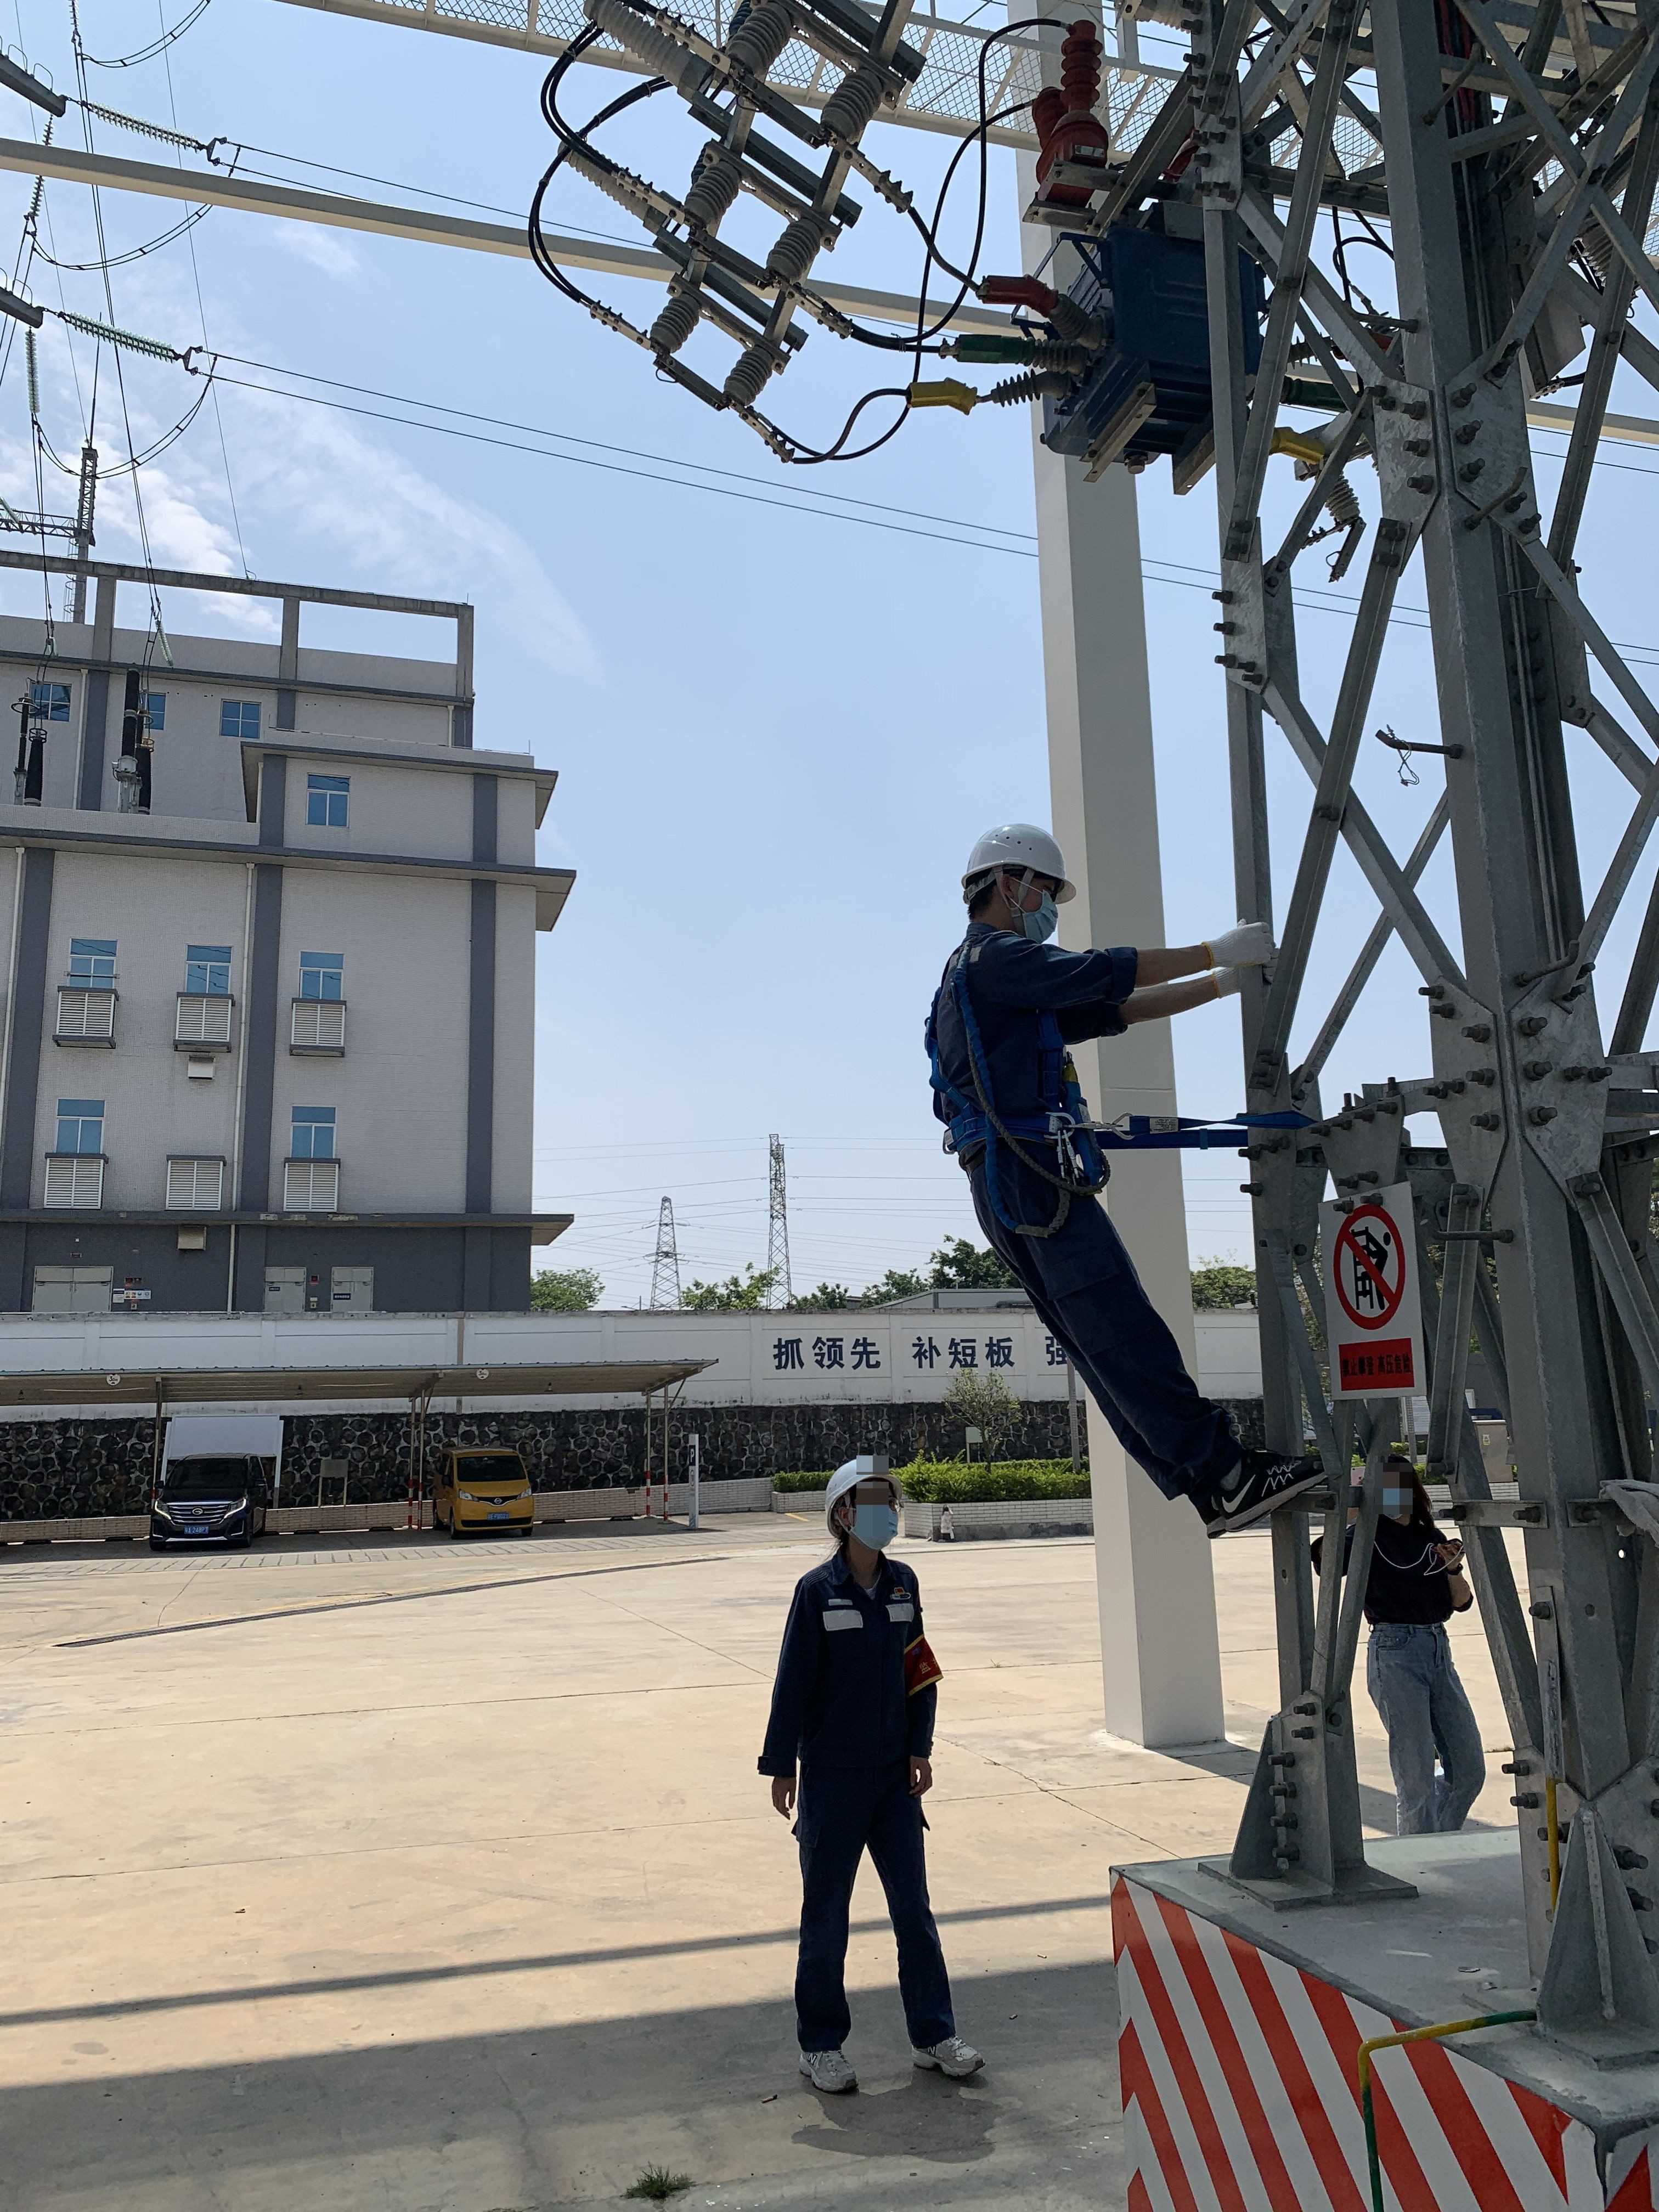downcloth: (1364, 1627, 1486, 1811)
downsuit: (969, 1177, 1229, 1503), (784, 1785, 955, 2052)
upcloth: (1361, 1514, 1462, 1625)
upsuit: (924, 932, 1141, 1165), (758, 1555, 946, 1775)
wrongtop: (1107, 935, 1232, 1028)
